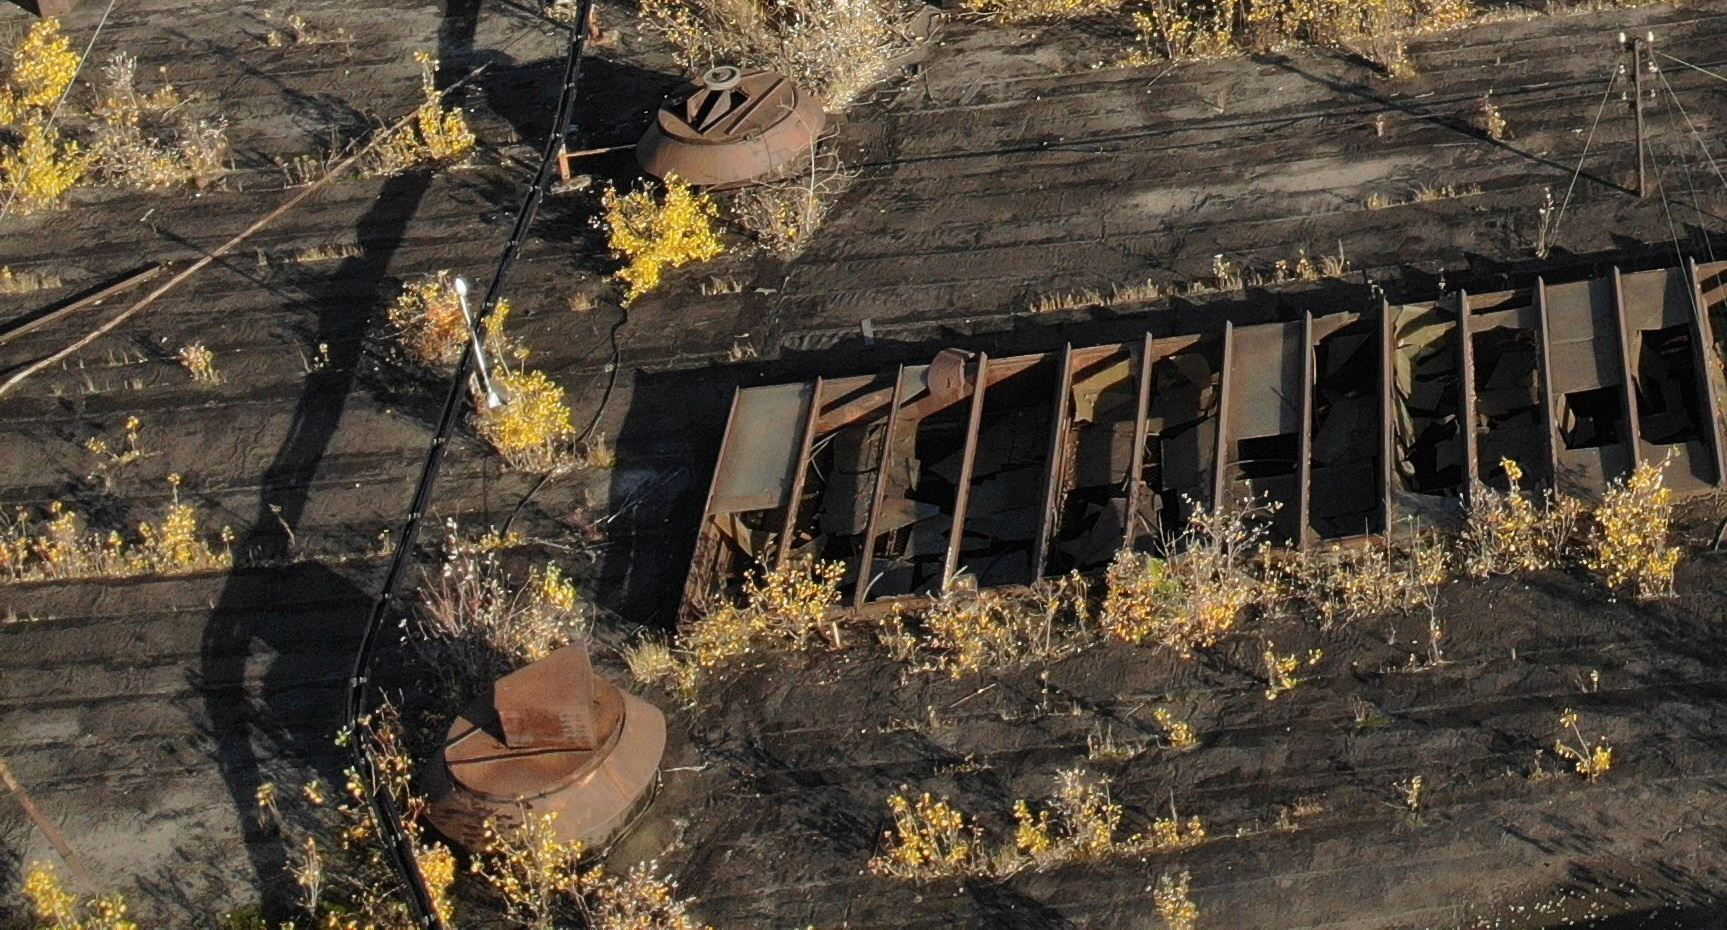tree: (101, 49, 270, 226), (1126, 498, 1277, 668), (576, 161, 732, 320), (369, 265, 508, 412), (458, 354, 601, 488), (6, 26, 101, 220), (733, 535, 861, 672), (378, 38, 491, 184), (1593, 465, 1694, 625), (877, 772, 985, 906), (916, 563, 1025, 677)
